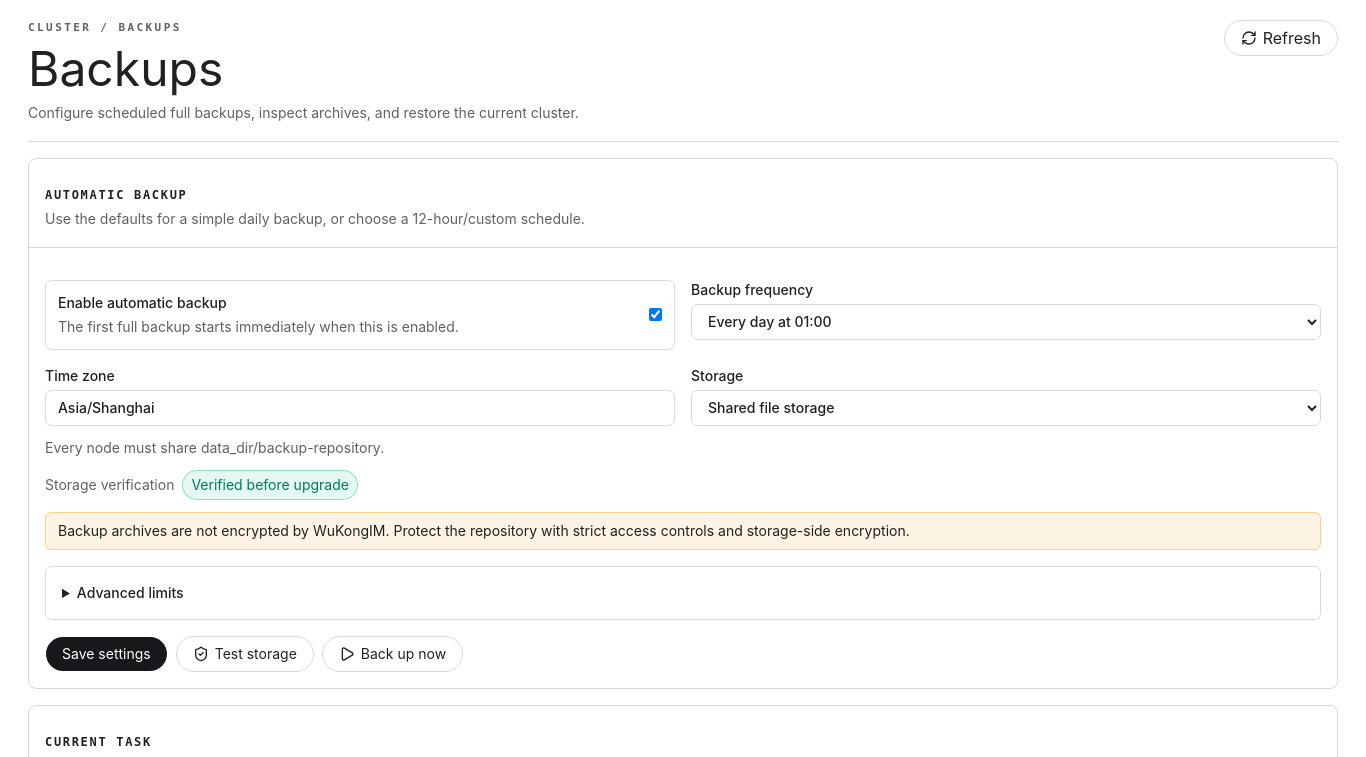
Test: renders actionable repository errors directly below the plan actions
The width and height of the screenshot is (1366, 757).
Click the button "Test storage": (245, 654) [176,636,314,672]
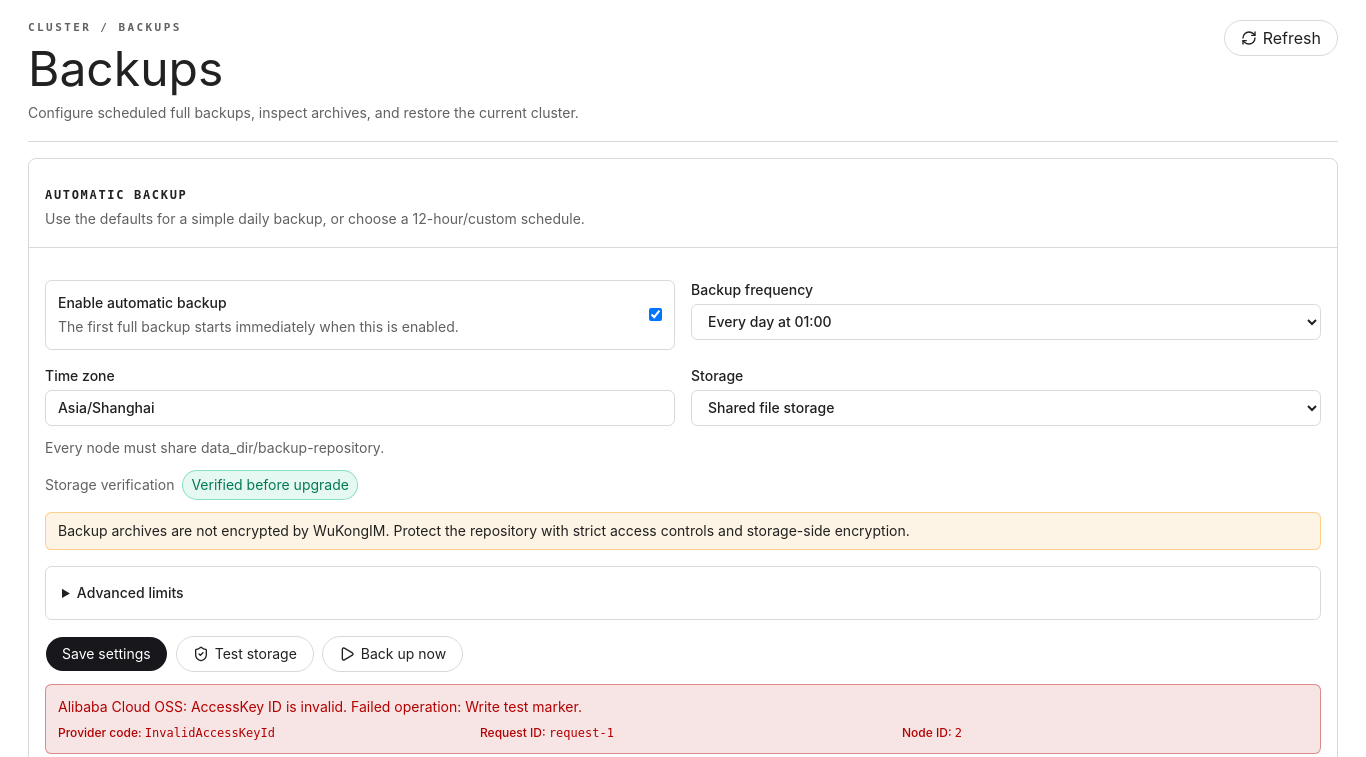
Result: the message shows "Alibaba Cloud OSS" at [58,698,582,714]
Result: the message shows "AccessKey ID is invalid" at [58,698,582,714]
Result: the message shows "Write test marker" at [58,698,582,714]
